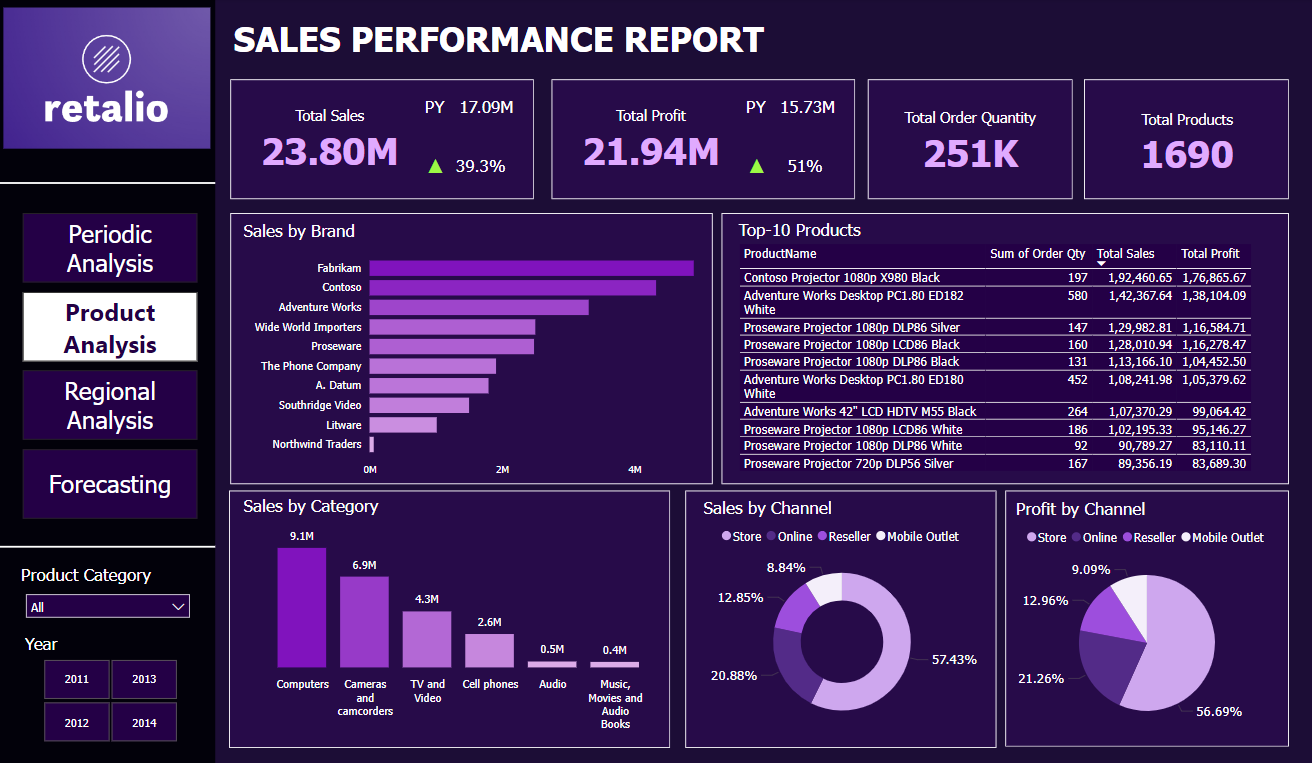

The dashboard page shown, as its layout file describes it:
{"tool":"powerbi","page":{"name":"Product Analysis","canvas":[1440,840],"ordinal":1},"visuals":[{"type":"shape","box":[1100.6,538.7,310.4,280.3],"z":0},{"type":"shape","box":[251.6,538.7,482.6,281.6],"z":1000},{"type":"shape","box":[750.6,538.7,340.4,281.6],"z":2000},{"type":"shape","box":[252.9,235.2,527.7,296.7],"z":3000},{"type":"shape","box":[1186.7,88.9,224.2,131.3],"z":4000},{"type":"shape","box":[950.2,88.9,224.2,131.3],"z":5000},{"type":"shape","box":[0,0,236.5,839.5],"z":6000},{"type":"textbox","box":[251.6,16.4,616.6,60.2],"z":7000},{"type":"card","title":"Total Order Quantity","fields":{"Values":["Sum(Sales_Data.Order Qty)"]},"box":[963.9,116.2,196.9,80.7],"z":8000},{"type":"card","title":"Total Products","fields":{"Values":["CountNonNull(Sales_Product.ProductKey)"]},"box":[1200.4,117.6,198.2,80.7],"z":9000},{"type":"barChart","title":"Sales by Brand","fields":{"Category":["Sales_Product.BrandName"],"Y":["Sum(Sales_Data.Sales)"]},"box":[262.5,243.4,518.2,288.5],"z":10000},{"type":"columnChart","title":"Sales by Category","fields":{"Y":["Sales_Data.Total Sales"],"Category":["Sales_Prod_Sub_Cat.Product Category"]},"box":[262.5,544.1,471.7,265.2],"z":11000},{"type":"donutChart","title":"Sales by Channel","fields":{"Category":["Sales_Channel.ChannelName"],"Y":["Sales_Data.Total Sales"]},"box":[765.6,545.5,313.1,265.2],"z":12000},{"type":"shape","box":[790.2,235.2,620.7,296.7],"z":13000},{"type":"pieChart","title":"Profit by Channel","fields":{"Y":["Sales_Data.Total Profit"],"Category":["Sales_Channel.ChannelName"]},"box":[1107.4,546.9,296.7,265.2],"z":14000},{"type":"tableEx","title":"Top-10 Products","fields":{"Values":["Sales_Product.ProductName","Sum(Sales_Data.Order Qty)","Sales_Data.Total Sales","Sales_Data.Total Profit"]},"box":[803.9,242,593.4,285.7],"z":15000},{"type":"pageNavigator","box":[26,235.2,191.4,336.3],"z":16000},{"type":"slicer","title":"Product Category","fields":{"Values":["Sales_Prod_Sub_Cat.Product Category"]},"box":[19.1,619.3,199.6,75.2],"z":17000},{"type":"slicer","title":"Year","fields":{"Values":["Date.Date.Variation.Date Hierarchy.Year"]},"box":[23.2,694.5,195.5,125.8],"z":18000},{"type":"shape","box":[0,590.6,236.5,19.1],"z":19000},{"type":"shape","box":[0,192.8,236.5,19.1],"z":20000},{"type":"image","box":[0,0,236.5,175],"z":21000},{"type":"shape","box":[252.9,88.9,332.2,131.3],"z":22000},{"type":"card","title":"Total Sales","fields":{"Values":["Sales_Data.Total Sales"]},"box":[262.5,113.5,198.2,80.7],"z":23000},{"type":"card","fields":{"Values":["Sales_Data.Sales YoY%"]},"box":[481.3,168.2,91.6,34.2],"z":24000},{"type":"card","fields":{"Values":["Sales_Data.Sales_Icon"]},"box":[460.7,168.2,32.8,34.2],"z":25000},{"type":"card","fields":{"Values":["Sales_Data.Sales LY"]},"box":[493.6,103.9,79.3,34.2],"z":26000},{"type":"textbox","box":[460.7,102.5,39.6,32.8],"z":27000},{"type":"shape","box":[604.2,89,332.2,131.3],"z":28000},{"type":"card","title":"Total Profit","fields":{"Values":["Sales_Data.Total Profit"]},"box":[613.8,113.6,198.2,80.7],"z":29000},{"type":"card","fields":{"Values":["Sales_Data.Profit YoY%"]},"box":[842.2,168.2,79.3,34.2],"z":30000},{"type":"card","fields":{"Values":["Sales_Data.Profit_Icon"]},"box":[812.1,168.2,32.8,34.2],"z":31000},{"type":"card","fields":{"Values":["Sales_Data.Profit LY"]},"box":[844.8,104.1,79.3,34.2],"z":32000},{"type":"textbox","box":[812,102.7,39.6,32.8],"z":33000}]}

Visuals, with their boxes in screenshot pixels (x1, y1, x2, y2), scaled from the page's 1440x840 canvas onto the 1312x763 screenshot:
shape: BBox(1003, 489, 1286, 744)
shape: BBox(229, 489, 669, 745)
shape: BBox(684, 489, 994, 745)
shape: BBox(230, 214, 711, 483)
shape: BBox(1081, 81, 1285, 200)
shape: BBox(866, 81, 1070, 200)
shape: BBox(0, 0, 215, 762)
textbox: BBox(229, 15, 791, 70)
"Total Order Quantity" card: BBox(878, 106, 1058, 179)
"Total Products" card: BBox(1094, 107, 1274, 180)
"Sales by Brand" barChart: BBox(239, 221, 711, 483)
"Sales by Category" columnChart: BBox(239, 494, 669, 735)
"Sales by Channel" donutChart: BBox(698, 495, 983, 736)
shape: BBox(720, 214, 1285, 483)
"Profit by Channel" pieChart: BBox(1009, 497, 1279, 738)
"Top-10 Products" tableEx: BBox(732, 220, 1273, 479)
pageNavigator: BBox(24, 214, 198, 519)
"Product Category" slicer: BBox(17, 563, 199, 631)
"Year" slicer: BBox(21, 631, 199, 745)
shape: BBox(0, 536, 215, 554)
shape: BBox(0, 175, 215, 192)
image: BBox(0, 0, 215, 159)
shape: BBox(230, 81, 533, 200)
"Total Sales" card: BBox(239, 103, 420, 176)
card - Sales_Data.Sales YoY%: BBox(439, 153, 522, 184)
card - Sales_Data.Sales_Icon: BBox(420, 153, 450, 184)
card - Sales_Data.Sales LY: BBox(450, 94, 522, 125)
textbox: BBox(420, 93, 456, 123)
shape: BBox(550, 81, 853, 200)
"Total Profit" card: BBox(559, 103, 740, 176)
card - Sales_Data.Profit YoY%: BBox(767, 153, 840, 184)
card - Sales_Data.Profit_Icon: BBox(740, 153, 770, 184)
card - Sales_Data.Profit LY: BBox(770, 95, 842, 126)
textbox: BBox(740, 93, 776, 123)
